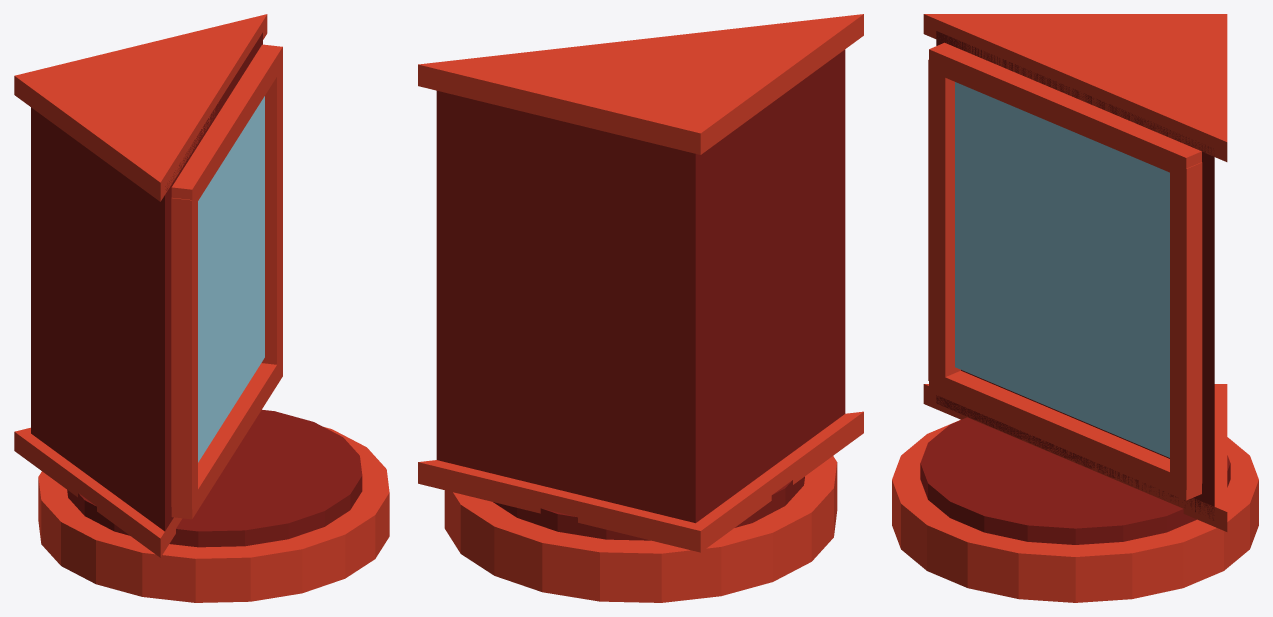
Rendered from single_mirror_red.glb.
3 views of the same model, side by side, from view 1: azimuth 30°, elevation 25°; view 2: azimuth 150°, elevation 25°; view 3: azimuth 270°, elevation 25° (orthographic). The views are drawn at different scales.
Parts seen in each view (by area): view 1: single_mirror_red_Triangular_Prism_Body, single_mirror_red_Top_Triangular_Cap, single_mirror_red_Base_Main, single_mirror_red_Mirror_Face, single_mirror_red_Base_Rim, single_mirror_red_Mirror_Frame_L, single_mirror_red_Mirror_Frame_T, single_mirror_red_Mirror_Frame_R, single_mirror_red_Bottom_Triangular_Cap, single_mirror_red_Mirror_Frame_B; view 2: single_mirror_red_Triangular_Prism_Body, single_mirror_red_Top_Triangular_Cap, single_mirror_red_Base_Main, single_mirror_red_Bottom_Triangular_Cap, single_mirror_red_Base_Rim; view 3: single_mirror_red_Mirror_Face, single_mirror_red_Top_Triangular_Cap, single_mirror_red_Base_Main, single_mirror_red_Base_Rim, single_mirror_red_Mirror_Frame_R, single_mirror_red_Mirror_Frame_T, single_mirror_red_Mirror_Frame_B, single_mirror_red_Triangular_Prism_Body, single_mirror_red_Mirror_Frame_L, single_mirror_red_Bottom_Triangular_Cap.
Boxes of the visible parts, <box> form: single_mirror_red_Triangular_Prism_Body: <box>31,32,262,531</box>; single_mirror_red_Top_Triangular_Cap: <box>14,14,267,201</box>; single_mirror_red_Base_Main: <box>38,427,389,602</box>; single_mirror_red_Mirror_Face: <box>198,96,264,462</box>; single_mirror_red_Base_Rim: <box>67,409,362,547</box>; single_mirror_red_Mirror_Frame_L: <box>171,192,197,509</box>; single_mirror_red_Mirror_Frame_T: <box>171,44,282,209</box>; single_mirror_red_Mirror_Frame_R: <box>261,57,282,374</box>; single_mirror_red_Bottom_Triangular_Cap: <box>14,427,182,557</box>; single_mirror_red_Mirror_Frame_B: <box>171,363,282,519</box>; single_mirror_red_Triangular_Prism_Body: <box>436,49,845,523</box>; single_mirror_red_Top_Triangular_Cap: <box>418,14,863,154</box>; single_mirror_red_Base_Main: <box>444,456,837,602</box>; single_mirror_red_Bottom_Triangular_Cap: <box>418,411,863,552</box>; single_mirror_red_Base_Rim: <box>493,476,804,540</box>; single_mirror_red_Mirror_Face: <box>955,82,1169,457</box>; single_mirror_red_Top_Triangular_Cap: <box>923,14,1227,161</box>; single_mirror_red_Base_Main: <box>892,420,1258,602</box>; single_mirror_red_Base_Rim: <box>920,417,1230,544</box>; single_mirror_red_Mirror_Frame_R: <box>1170,162,1202,489</box>; single_mirror_red_Mirror_Frame_T: <box>929,42,1201,178</box>; single_mirror_red_Mirror_Frame_B: <box>929,370,1201,500</box>; single_mirror_red_Triangular_Prism_Body: <box>936,31,1214,520</box>; single_mirror_red_Mirror_Frame_L: <box>928,59,960,387</box>; single_mirror_red_Bottom_Triangular_Cap: <box>923,384,1227,531</box>.
Size of the model in its own units: 1.16 by 1.56 by 1.16.
